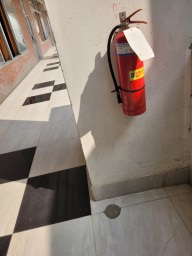fire_extinguisher: (6, 50, 87, 112)
